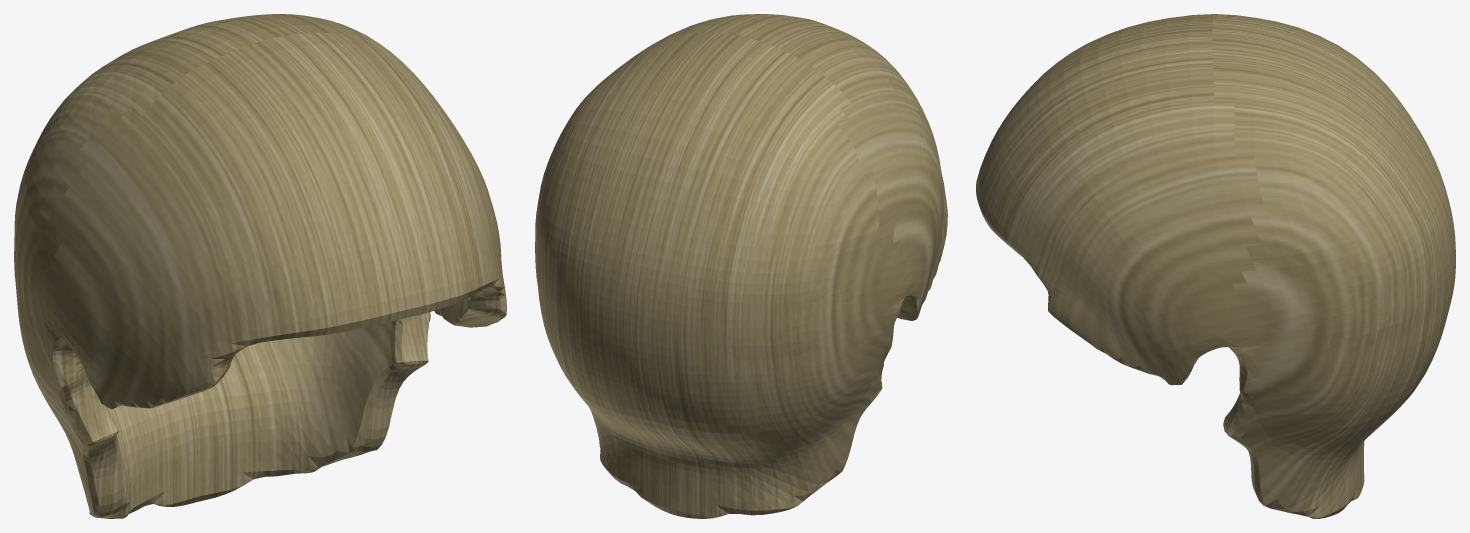
3 renders of one model, left to right at view 1: azimuth 30°, elevation 25°; view 2: azimuth 150°, elevation 25°; view 3: azimuth 270°, elevation 25°, orthographic. The views are drawn at different scales.
Parts seen in each view (by area): view 1: jessskullthickP; view 2: jessskullthickP; view 3: jessskullthickP.
Part boxes in pixels (x1=…): jessskullthickP: x1=14, y1=14, x2=506, y2=518; jessskullthickP: x1=535, y1=14, x2=947, y2=518; jessskullthickP: x1=976, y1=14, x2=1455, y2=518.
Size of the model in its own units: 0.0728 by 0.0903 by 0.0862.
